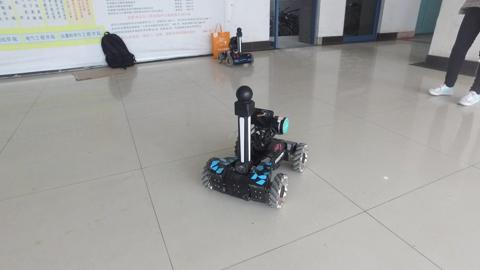bag: (99, 29, 138, 71), (209, 22, 231, 58)
chariot: (200, 84, 309, 209), (215, 25, 253, 67)
